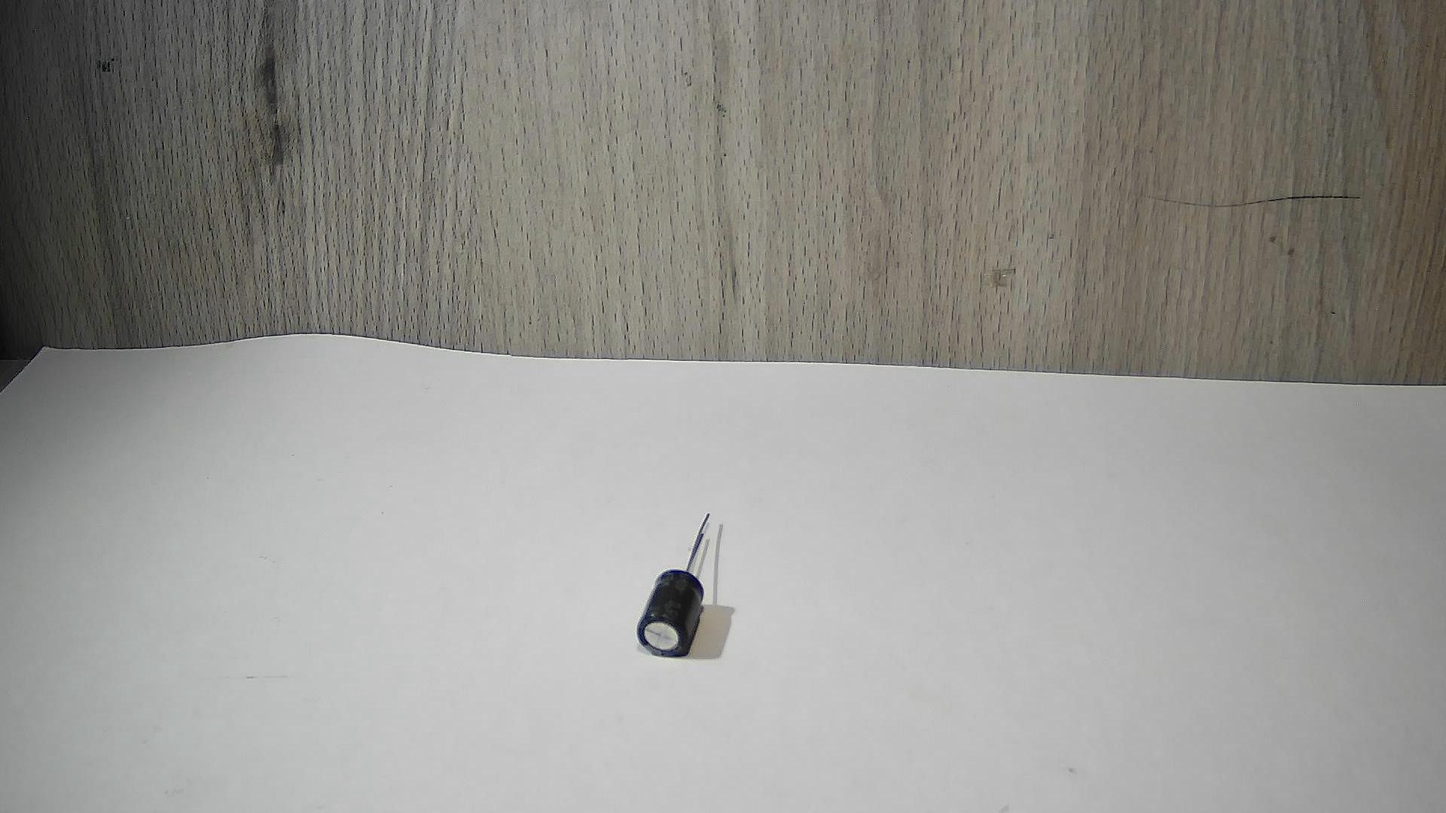Capacitor: (607, 499, 746, 670)
